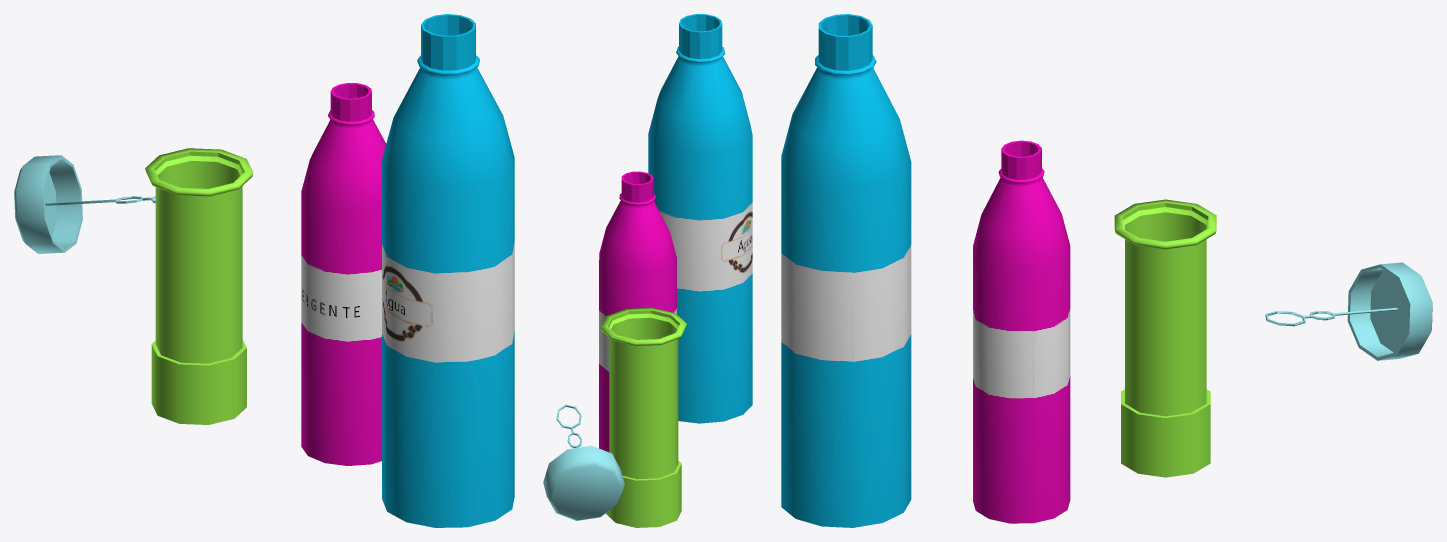
Rendered from tampa.FBX.
3 renders of one model, left to right at view 1: azimuth 30°, elevation 25°; view 2: azimuth 150°, elevation 25°; view 3: azimuth 270°, elevation 25°, orthographic. The views are drawn at different scales.
Visible parts, largest first — view 1: garrafa de água, detergente, pega bolhas, pegador; view 2: garrafa de água, pega bolhas, detergente, pegador; view 3: garrafa de água, detergente, pega bolhas, pegador.
Part boxes in pixels (x1,y1,x2,y2): garrafa de água: (382,14,514,527); detergente: (301,83,386,465); pega bolhas: (145,148,253,424); pegador: (14,155,155,253); garrafa de água: (648,14,752,423); pega bolhas: (600,307,686,527); detergente: (599,171,676,452); pegador: (543,404,624,520); garrafa de água: (781,14,911,527); detergente: (973,140,1070,523); pega bolhas: (1114,199,1216,477); pegador: (1265,262,1432,360).
Bounding box in the file's own units: 32.23 × 80.93 × 66.
